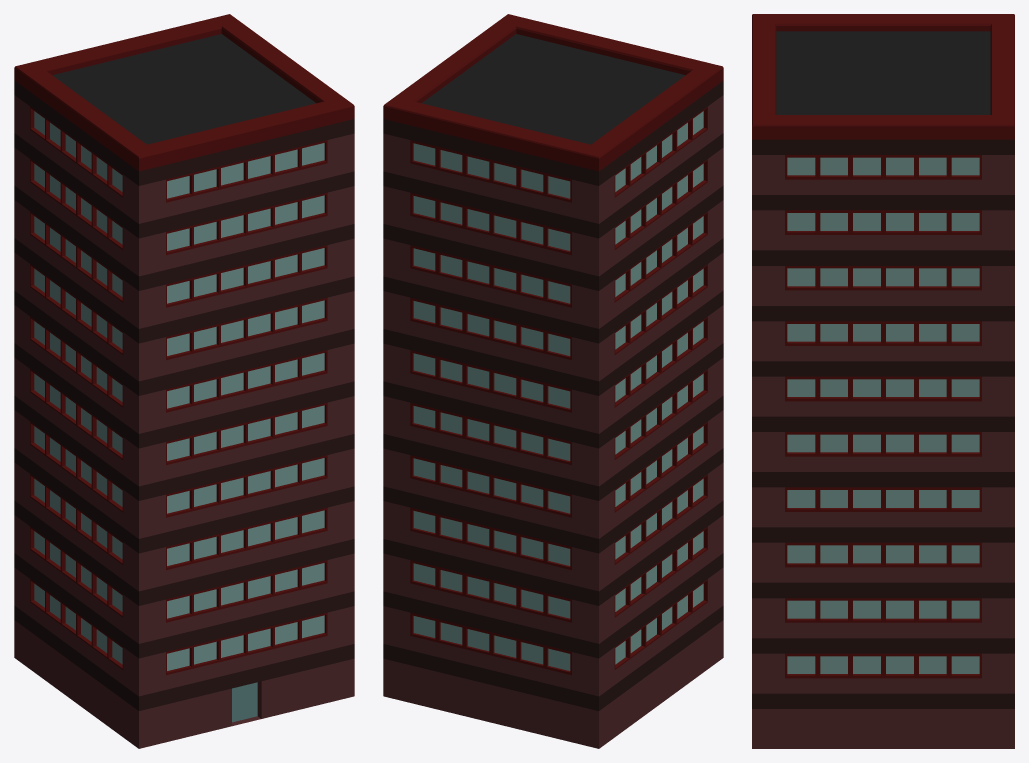
File: edificio_08.fbx
3 renders of one model, left to right at view 1: azimuth 30°, elevation 25°; view 2: azimuth 150°, elevation 25°; view 3: azimuth 270°, elevation 25°, orthographic. The views are drawn at different scales.
Parts seen in each view (by area): view 1: Cube.017; view 2: Cube.017; view 3: Cube.017.
Part boxes in pixels (x1,y1,x2,y2): Cube.017: [14, 14, 354, 748]; Cube.017: [383, 14, 723, 748]; Cube.017: [752, 14, 1014, 748].
Bounding box in the file's own units: 3996 × 10476 × 3996.
